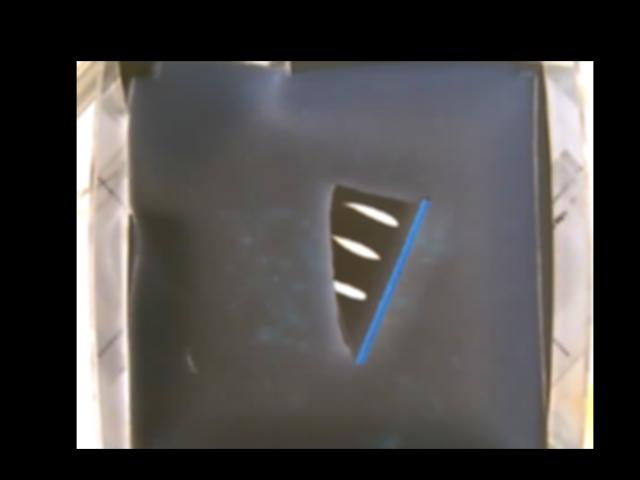China: (328, 182, 430, 364)
